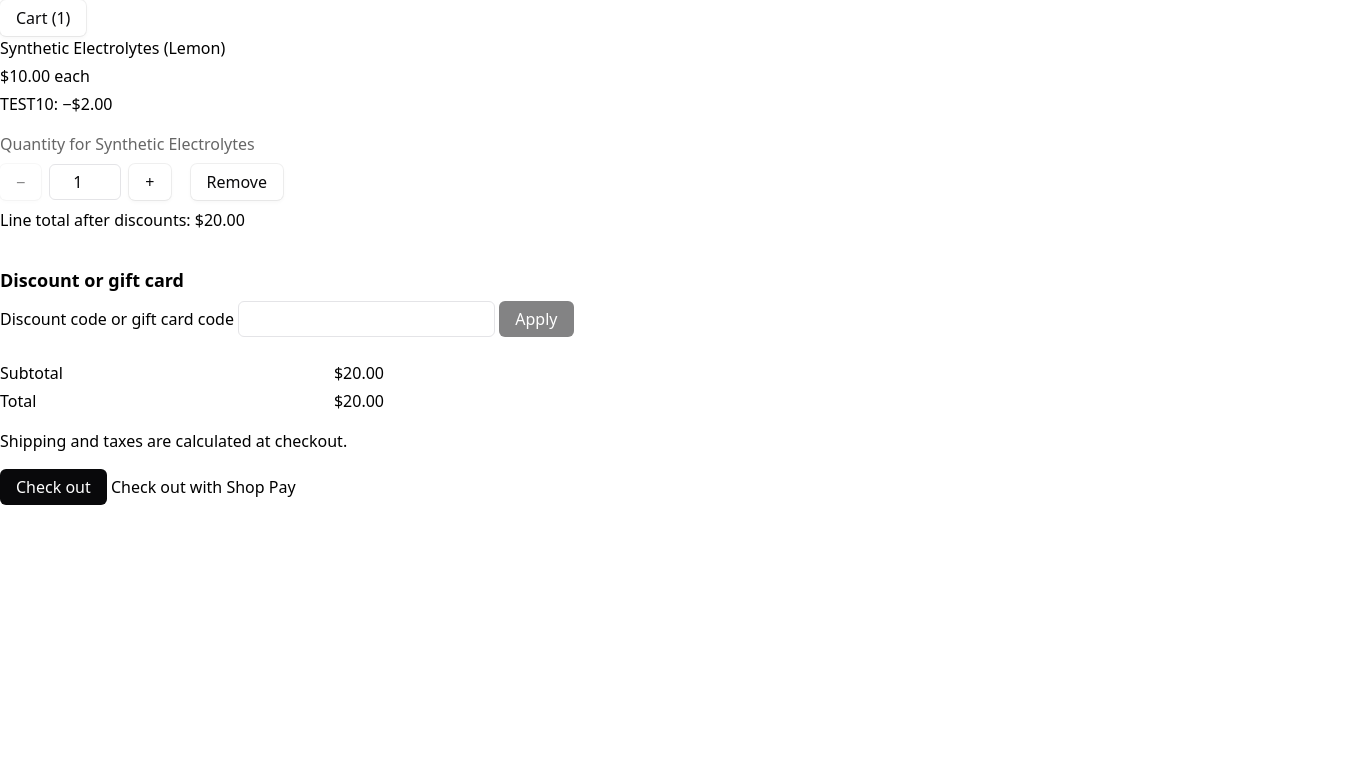
cart › opens the drawer from the header button
The image size is (1366, 768).
Step 1. Click the button with aria-label "Cart, 1 item" → [43, 18], box [0,0,86,36]
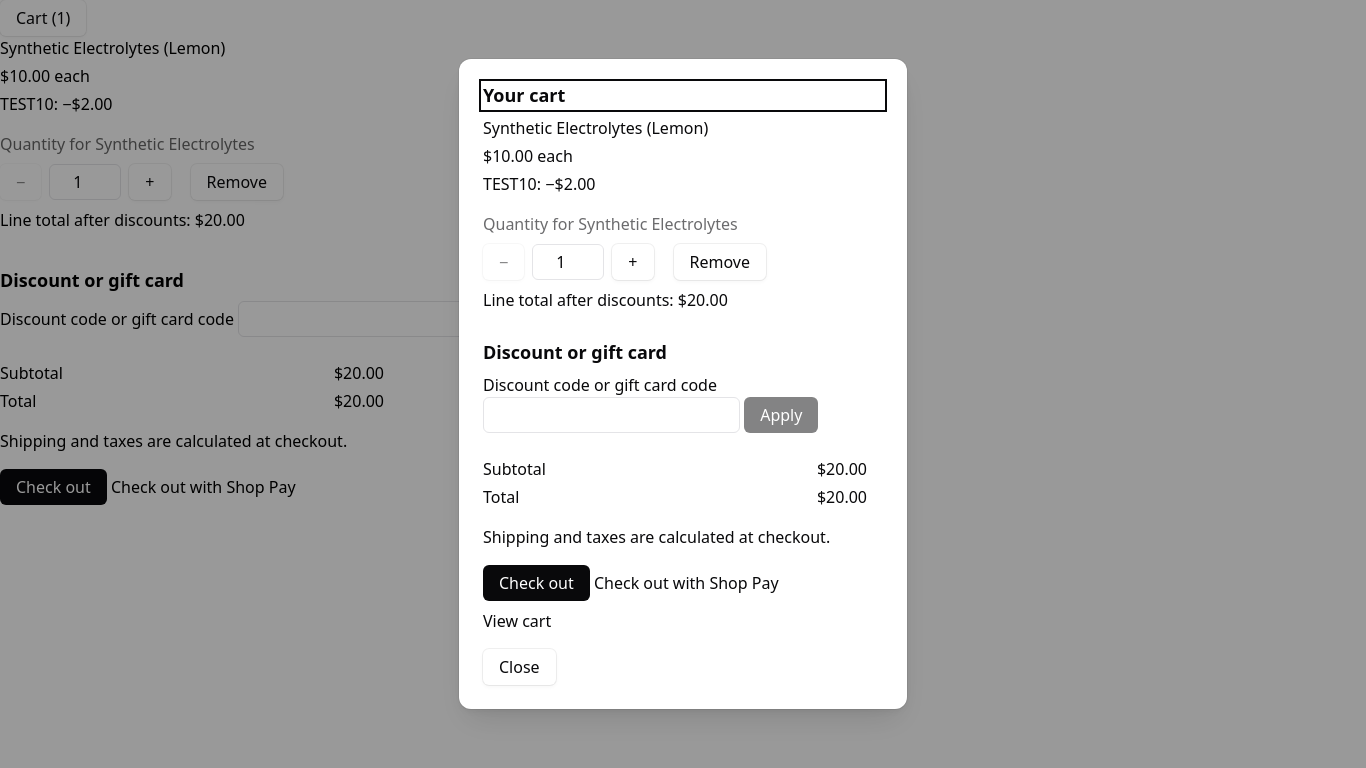
Now the link "View cart" is shown, box [483,609,551,633]
Step 2. Click the button "Close" → [519, 667], box [483,649,556,685]
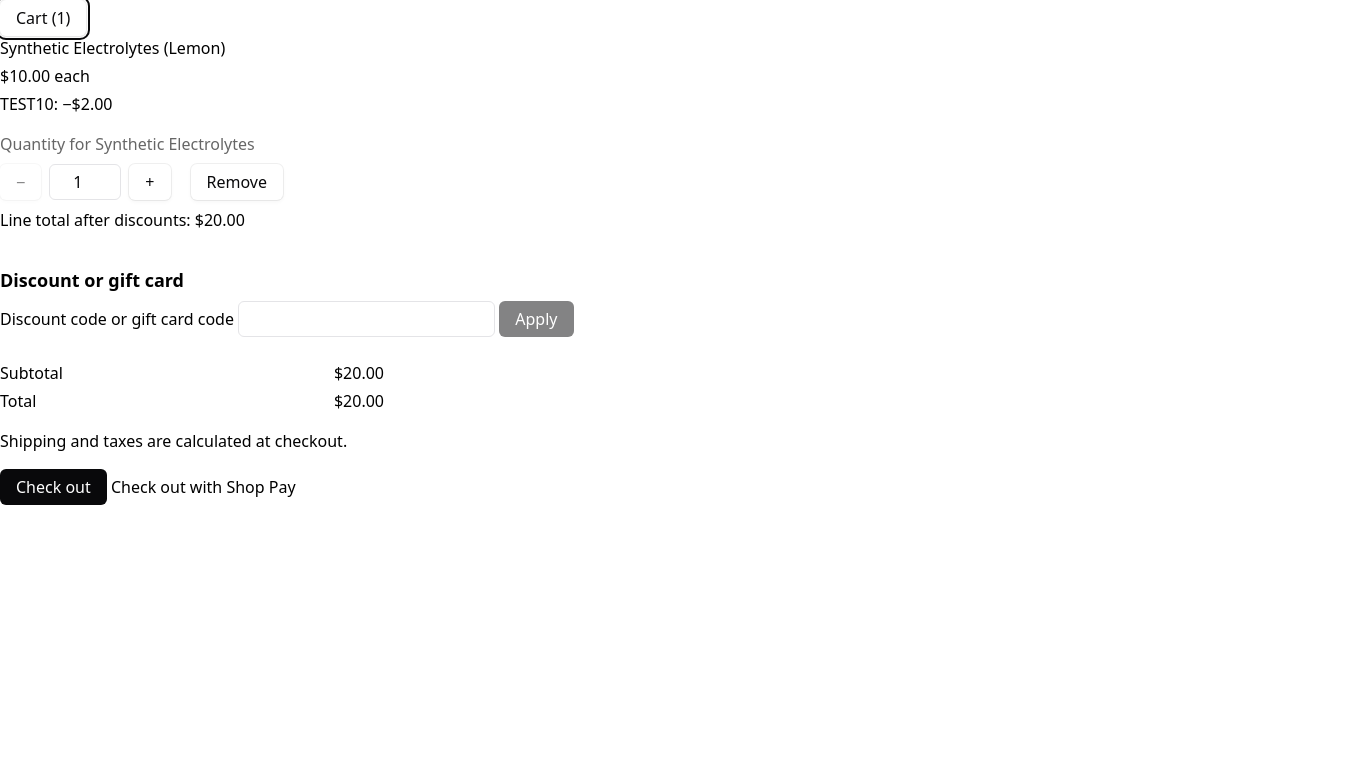
Now the dialog is gone
